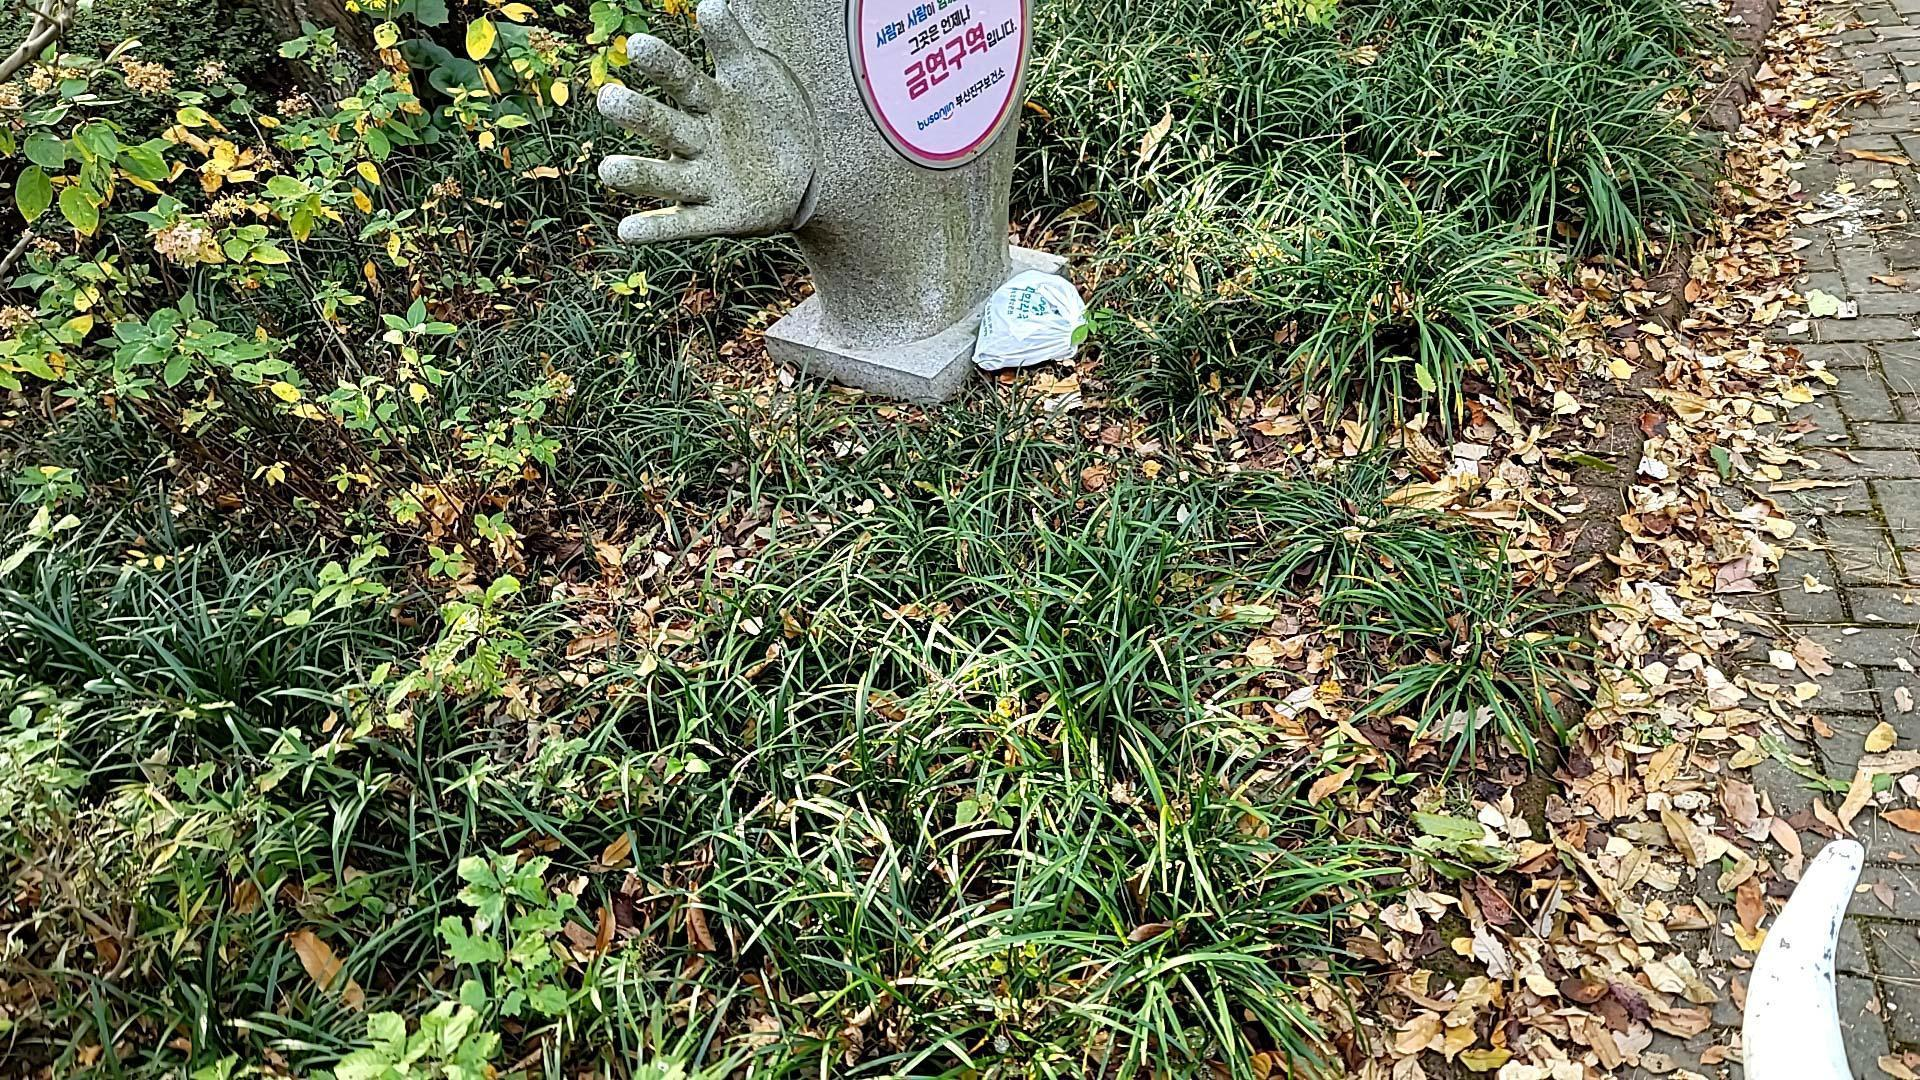white_bag: (965, 256, 1093, 385)
